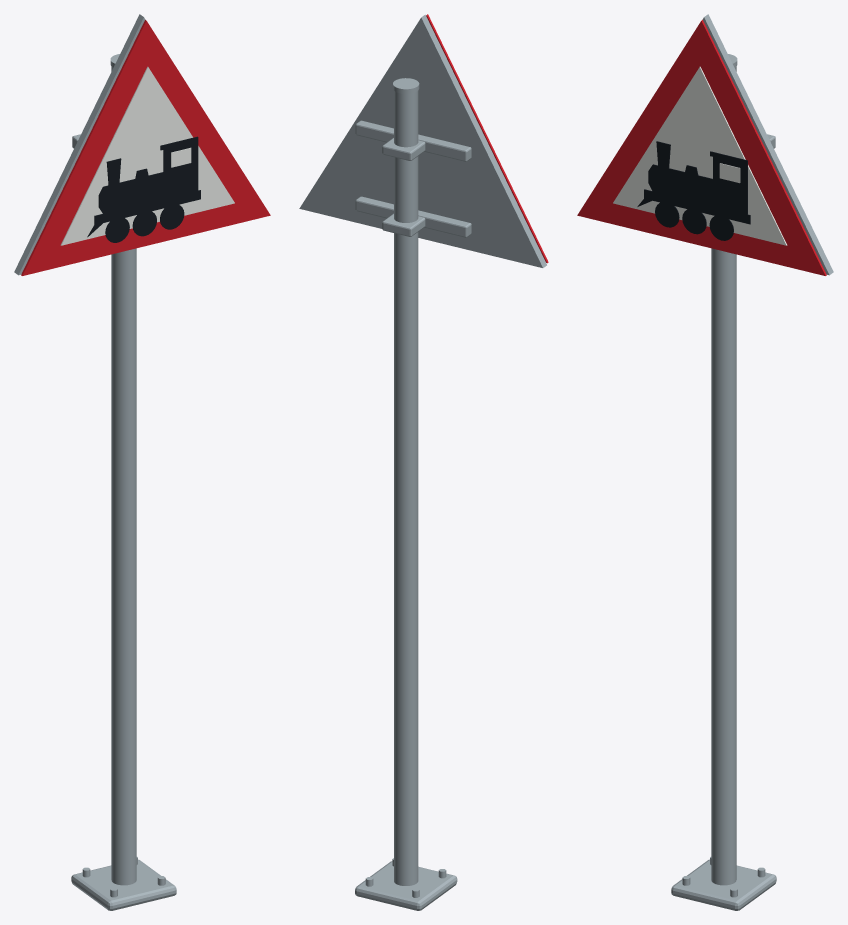
The model's file is DS_Sign_RailwayNoBarrier.glb.
3 views of the same model, side by side, from view 1: azimuth 30°, elevation 25°; view 2: azimuth 150°, elevation 25°; view 3: azimuth 330°, elevation 25° (orthographic). The views are drawn at different scales.
Visible parts, largest first — view 1: Post.001, Face_Border.001, Face_Field.001, BasePlate.001, Plate_Back.001, Loco_Boiler, Loco_Cab, Loco_Frame; view 2: Plate_Back.001, Post.001, BasePlate.001, RearRail.002, RearRail.003, Face_Border.001, PostClamp.002, PostClamp.003; view 3: Post.001, Face_Border.001, Face_Field.001, BasePlate.001, Plate_Back.001, Loco_Boiler, Loco_Cab, Loco_Frame.
Part boxes in pixels (x1,y1,x2,y2): Post.001: [111, 66, 136, 885]; Face_Border.001: [21, 20, 270, 275]; Face_Field.001: [60, 66, 234, 245]; BasePlate.001: [71, 859, 176, 910]; Plate_Back.001: [14, 14, 145, 275]; Loco_Boiler: [98, 172, 166, 213]; Loco_Cab: [160, 136, 198, 199]; Loco_Frame: [94, 190, 200, 224]; Plate_Back.001: [299, 14, 546, 267]; Post.001: [394, 91, 418, 885]; BasePlate.001: [355, 861, 457, 910]; RearRail.002: [355, 196, 471, 237]; RearRail.003: [355, 120, 471, 161]; Face_Border.001: [426, 14, 548, 263]; PostClamp.002: [382, 213, 425, 236]; PostClamp.003: [382, 138, 425, 160]; Post.001: [711, 66, 736, 885]; Face_Border.001: [577, 20, 826, 275]; Face_Field.001: [613, 66, 787, 245]; BasePlate.001: [671, 859, 776, 910]; Plate_Back.001: [702, 14, 833, 275]; Loco_Boiler: [648, 164, 715, 206]; Loco_Cab: [710, 151, 747, 214]; Loco_Frame: [644, 189, 750, 224].
Bounding box in the file's own units: 0.8747 × 2.95 × 0.275.
